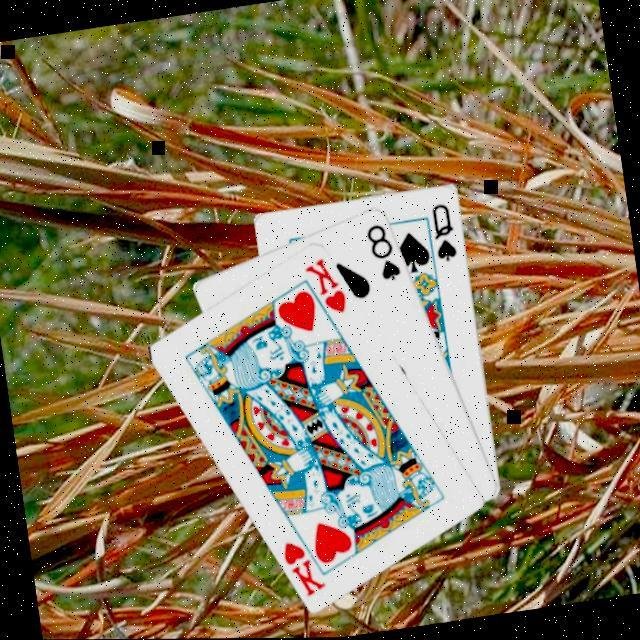8S: (360, 218, 403, 286)
KH: (277, 533, 329, 601), (299, 250, 349, 319)
QS: (425, 198, 460, 265)
